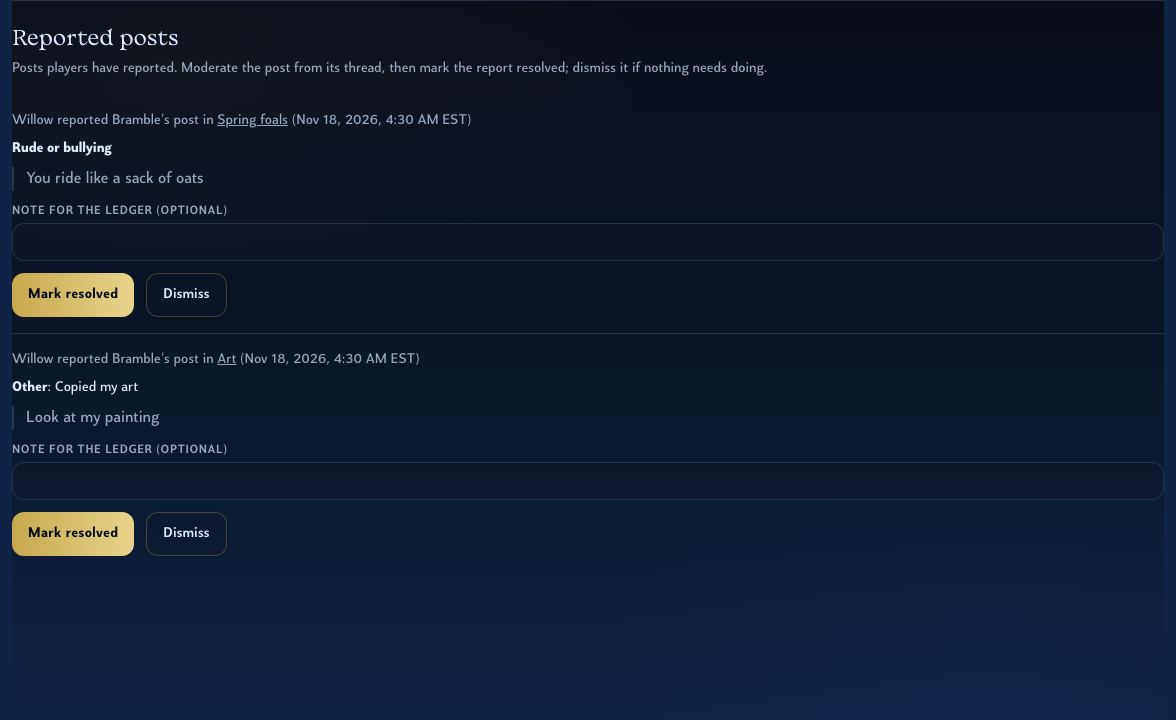
Scenario: StaffForumReports › says so beside the buttons when another steward already decided it
The image size is (1176, 720).
Click the button "Dismiss" below "Spring foals" at [186, 295], box [146,273,227,317]
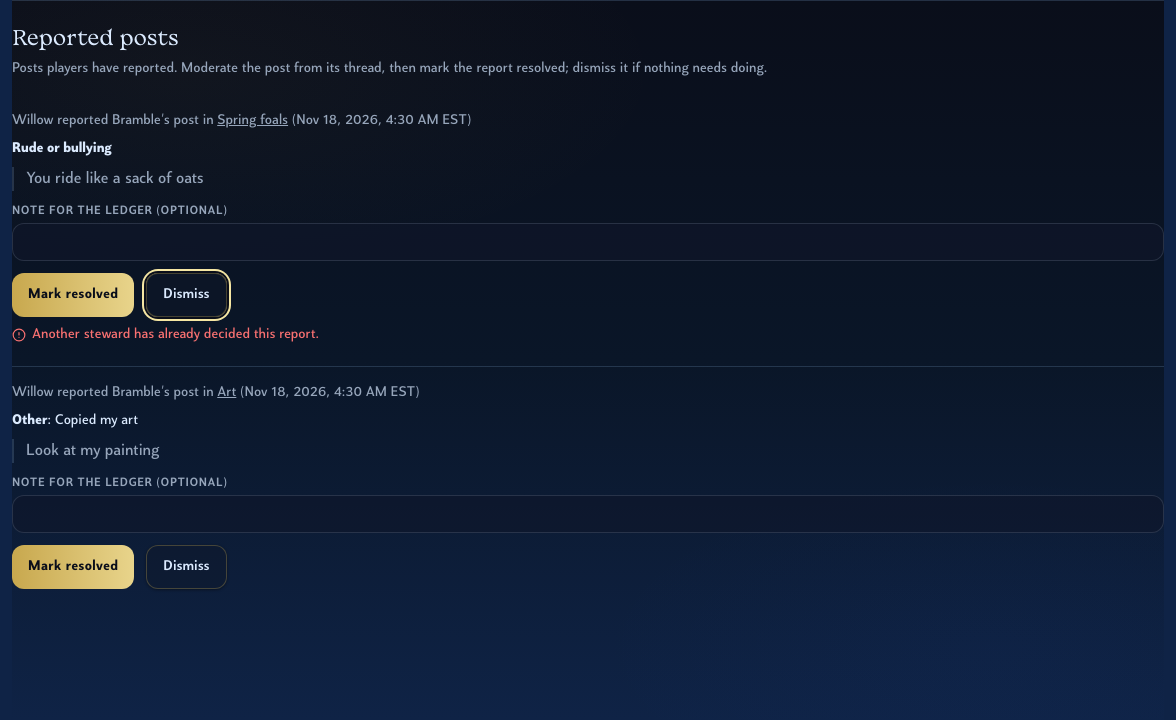
Expected: the text "Another steward has already decided this report." is shown, [32,325,319,345]
